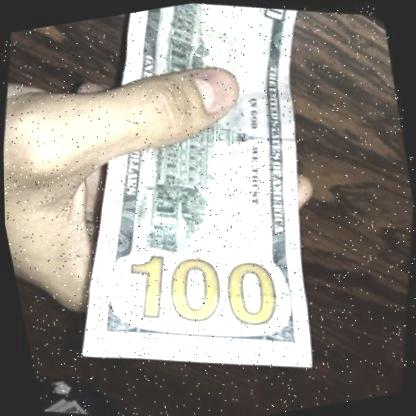dollar_back: (13, 0, 407, 415)
